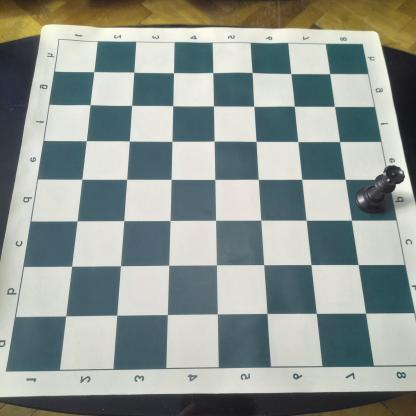black-queen: (353, 164, 406, 215)
